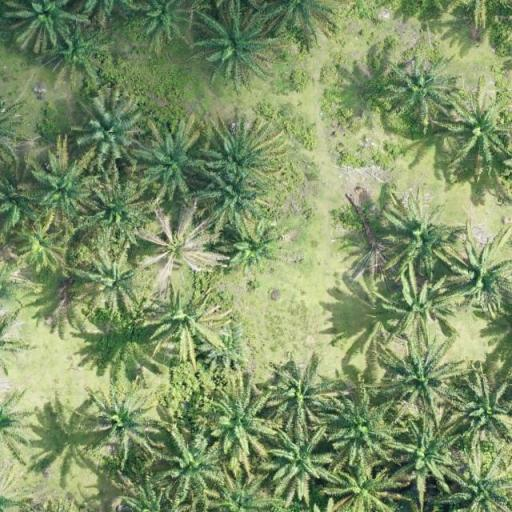Ganoderma: (168, 304, 210, 344), (154, 228, 198, 266), (24, 225, 60, 261)
